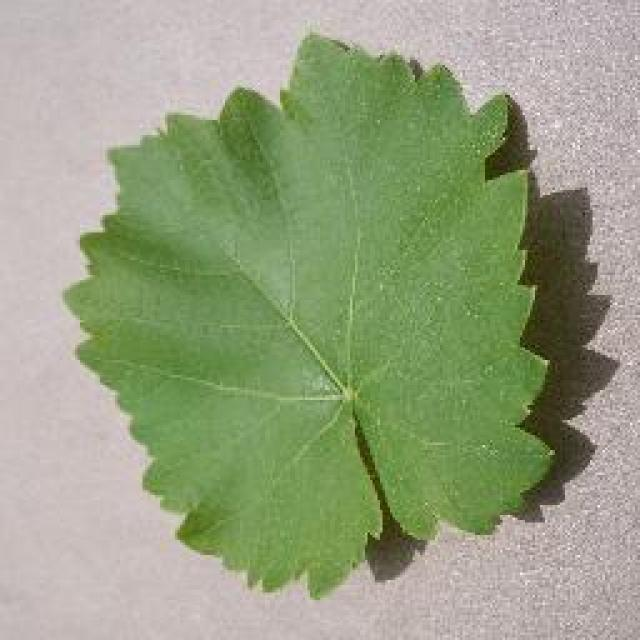Healthy: (87, 51, 630, 640)
